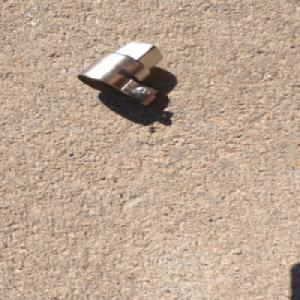MetalPart: (75, 41, 165, 107)
